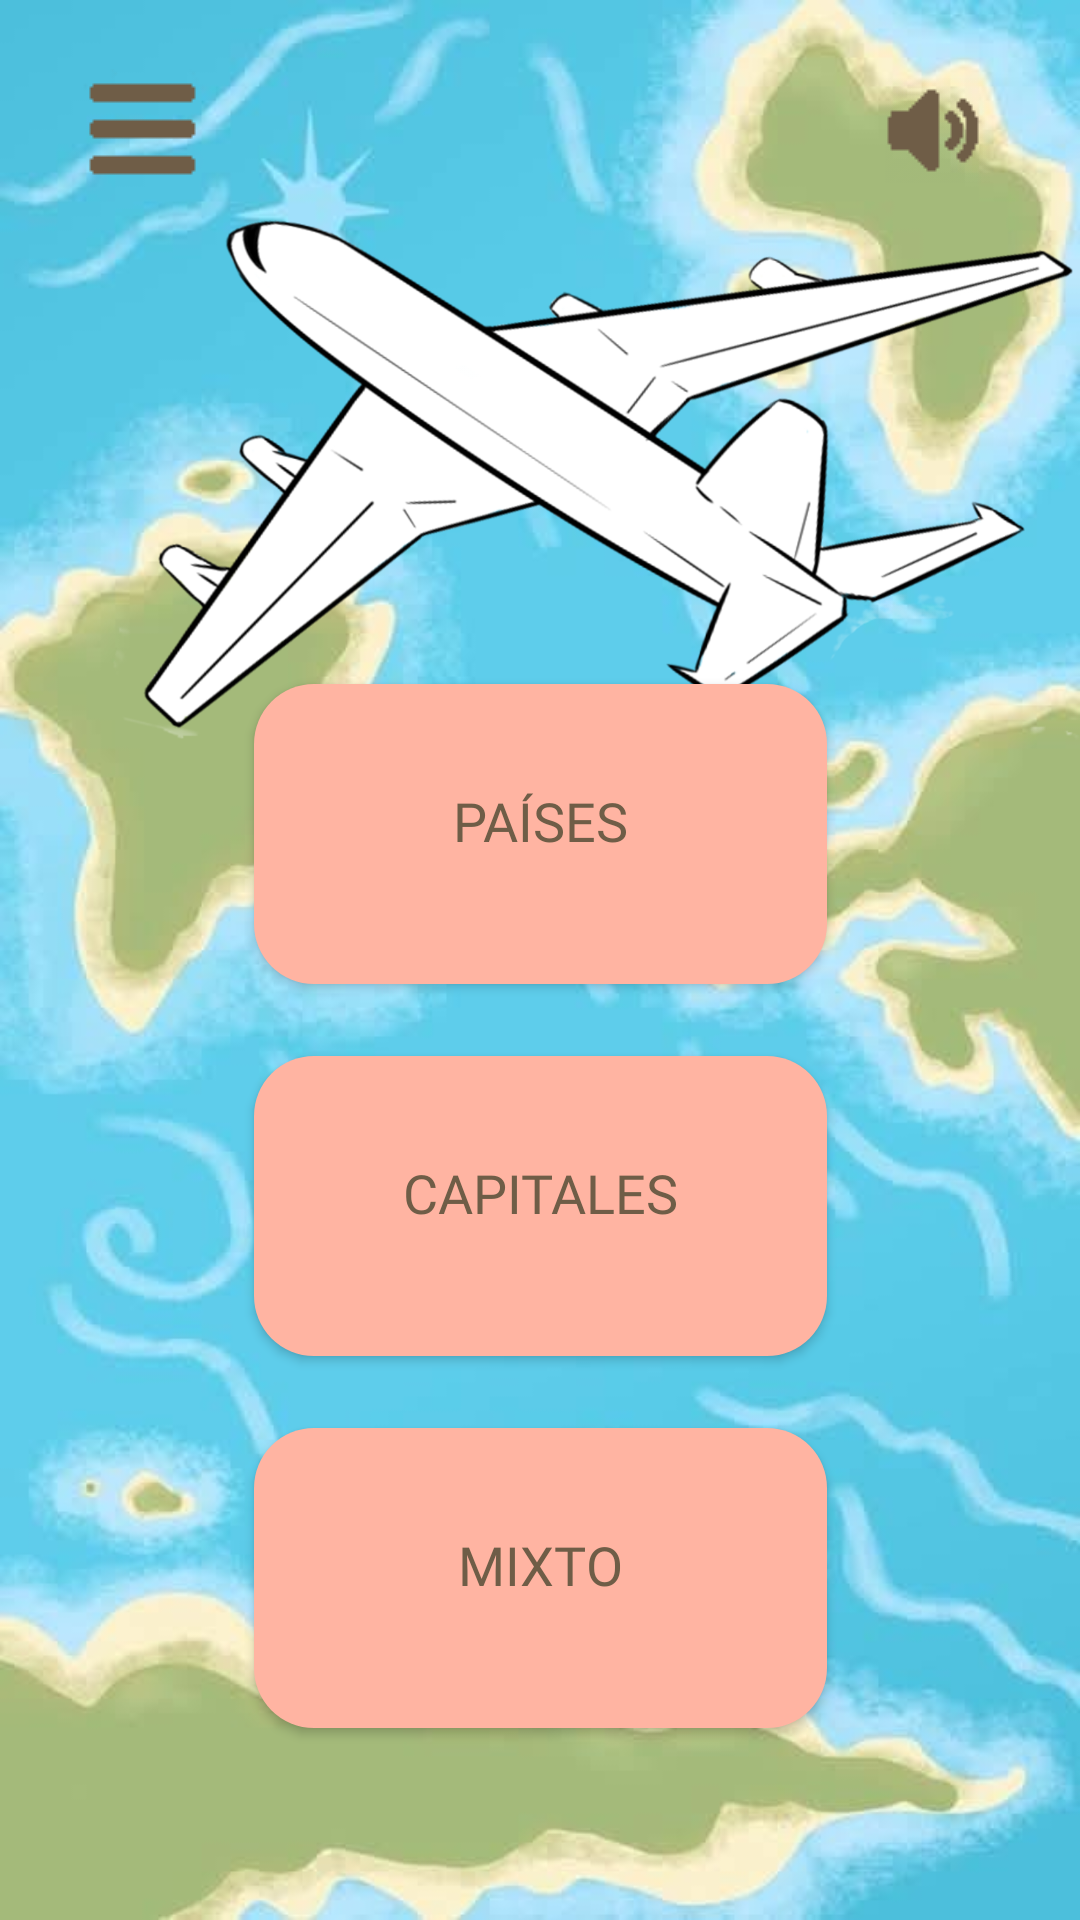

Named icons in this screenshot (1080 x 1920) and their bounding boxes, (x1, y1, x2, y2):
menulineas: (48, 78, 237, 237)
